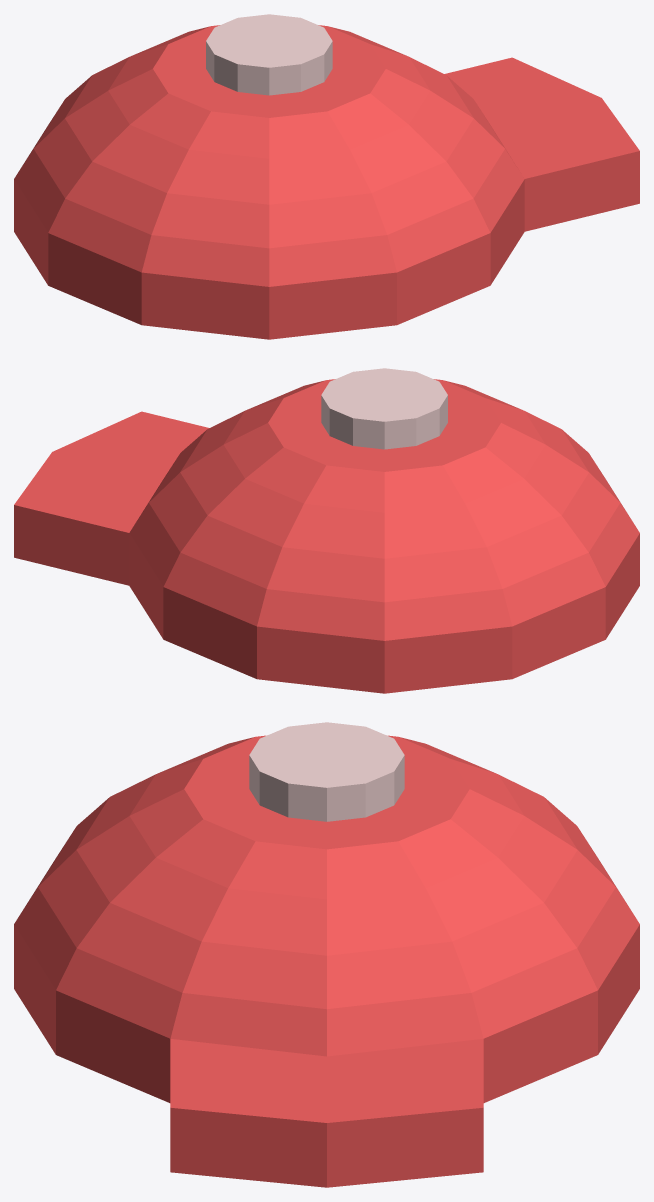
Rendered from Fire_alarm.fbx.
3 renders of one model, top to bottom at view 1: azimuth 30°, elevation 25°; view 2: azimuth 150°, elevation 25°; view 3: azimuth 270°, elevation 25°, orthographic. The views are drawn at different scales.
Parts seen in each view (by area): view 1: Kitchen_fire_alarm:pCylinder1; view 2: Kitchen_fire_alarm:pCylinder1; view 3: Kitchen_fire_alarm:pCylinder1.
Part boxes in pixels (x1=…): Kitchen_fire_alarm:pCylinder1: x1=14, y1=14, x2=639, y2=339; Kitchen_fire_alarm:pCylinder1: x1=14, y1=368, x2=639, y2=693; Kitchen_fire_alarm:pCylinder1: x1=14, y1=722, x2=639, y2=1187.
Size of the model in its own units: 9.99 by 3.29 by 7.98.
